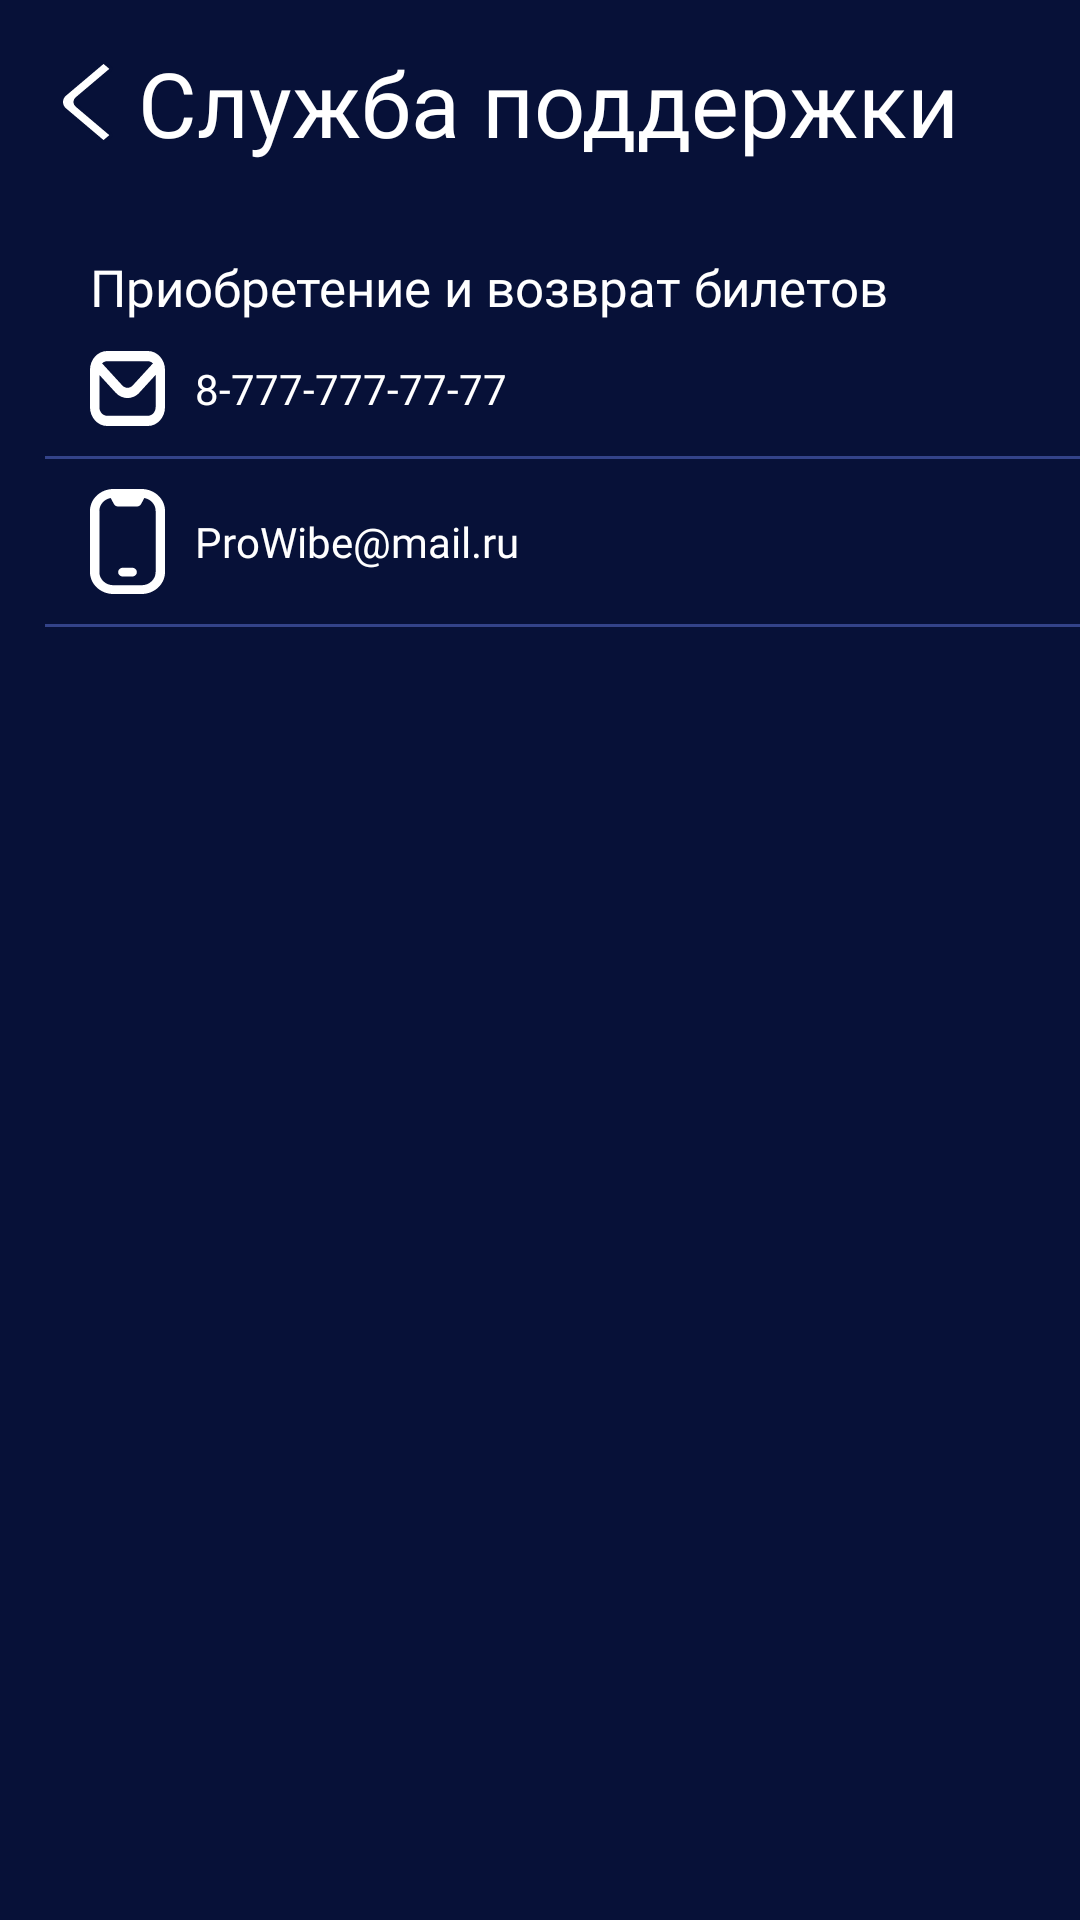

Named icons in this screenshot (1080x1920) and their centers, point (x, y):
left arrow: point (86, 102)
